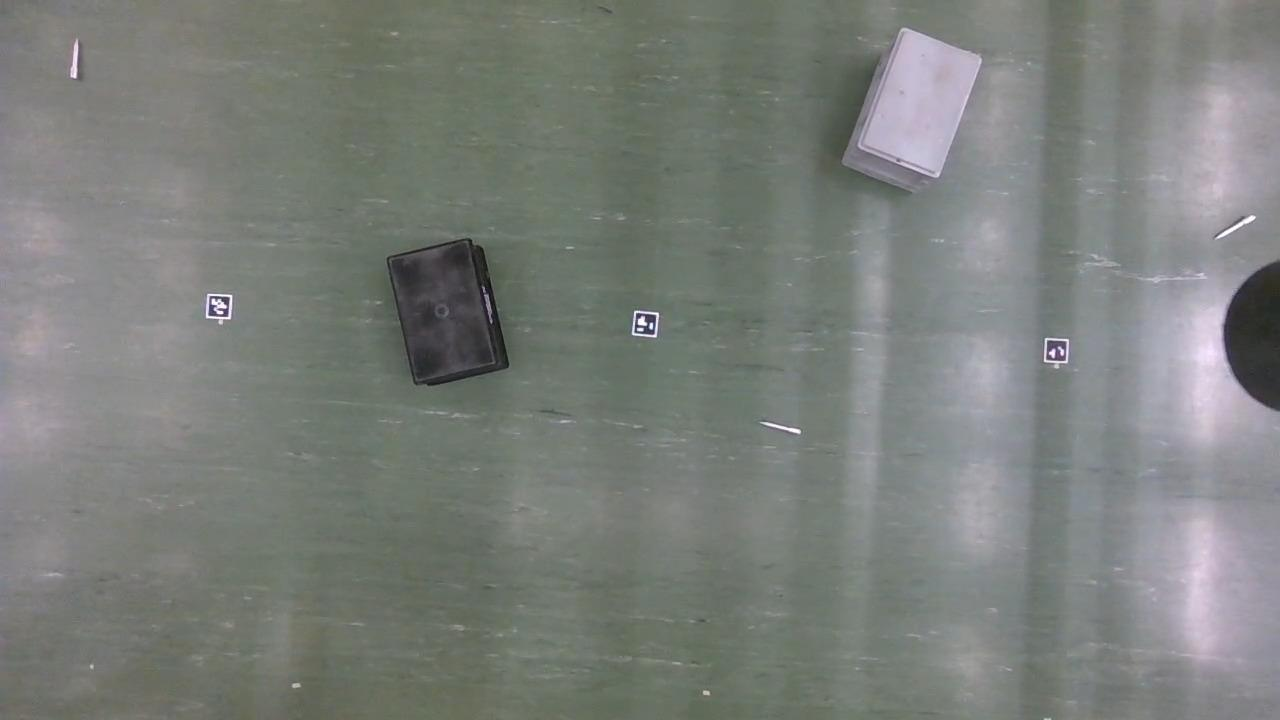probes: (1215, 216, 1253, 241), (761, 421, 800, 435), (71, 42, 80, 81)
rako: (840, 29, 982, 198), (387, 241, 509, 388)
